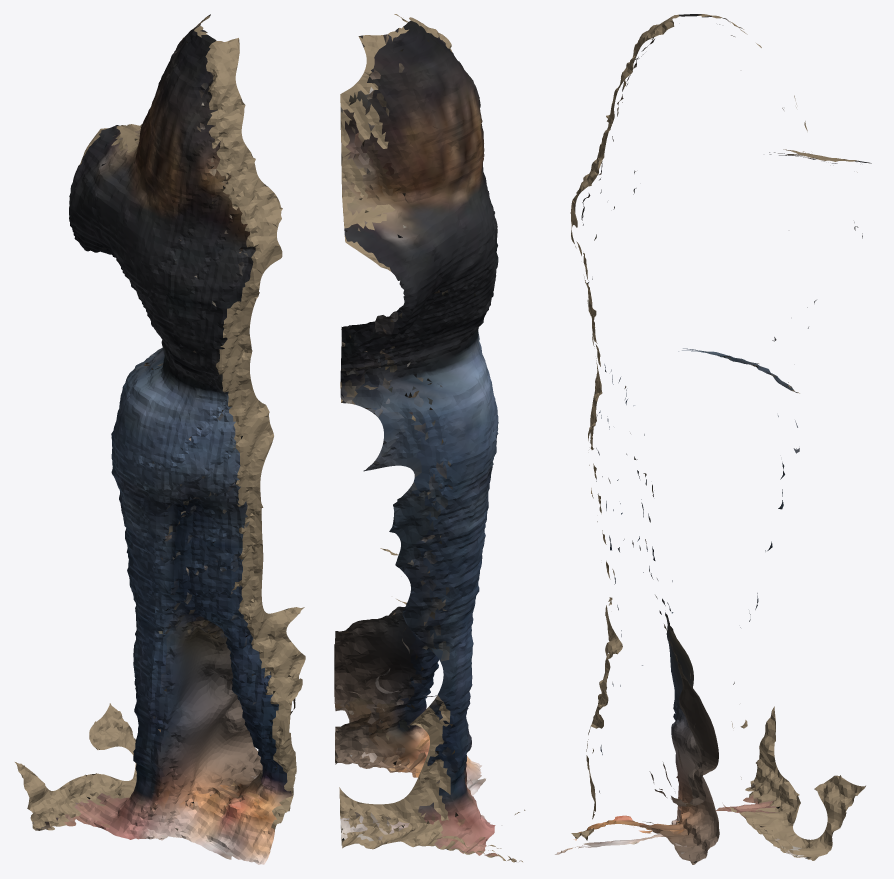
3 views of the same model, side by side, from view 1: azimuth 30°, elevation 25°; view 2: azimuth 150°, elevation 25°; view 3: azimuth 270°, elevation 25° (orthographic). The views are drawn at different scales.
Size of the model in its own units: 0.4833 by 1.52 by 0.5321.
Materials: 1 (1 with a texture image).
